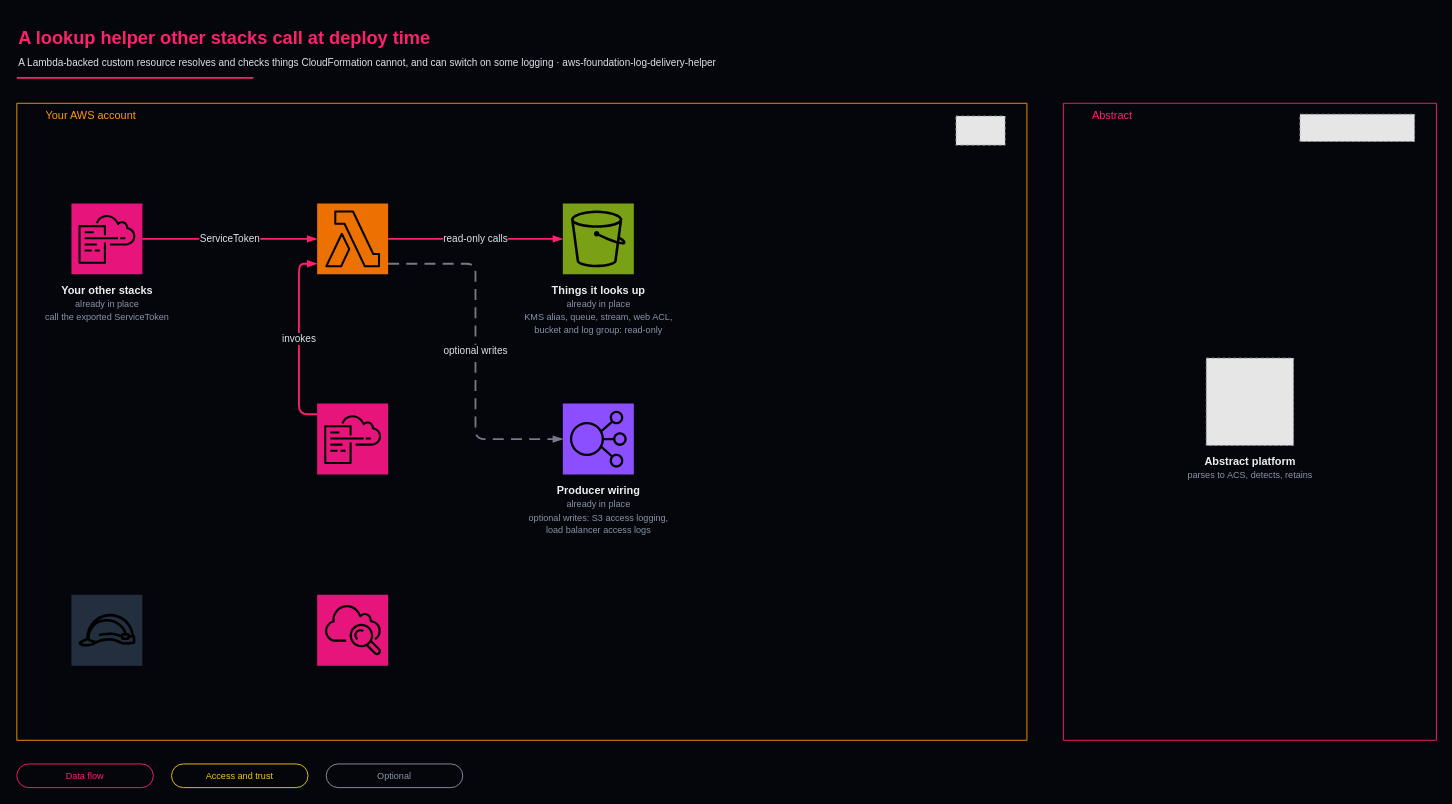
The diagram is 1452 pixels wide and 804 high, and some of its shapes have lost their labels. Grey dashed boxes stand in for pictures. Each missing label, with the centre of its shape:
"Custom resource optional: one lookup at deploy time when Operation is set" belongs at (352,438).
"Execution role read-only lookups; write rights only when wiring is allowed" belongs at (106,629).
"Helper function Lambda with inline Python" belongs at (352,238).
"Log group the function's logs" belongs at (352,629).
